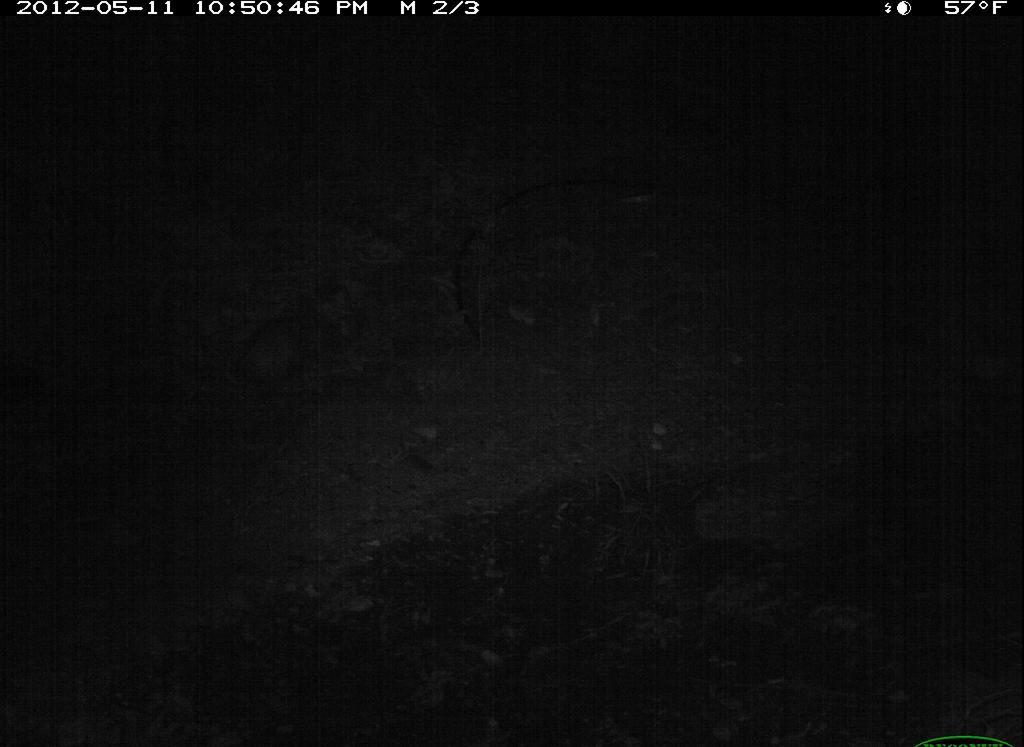opossum: (231, 274, 374, 387)
